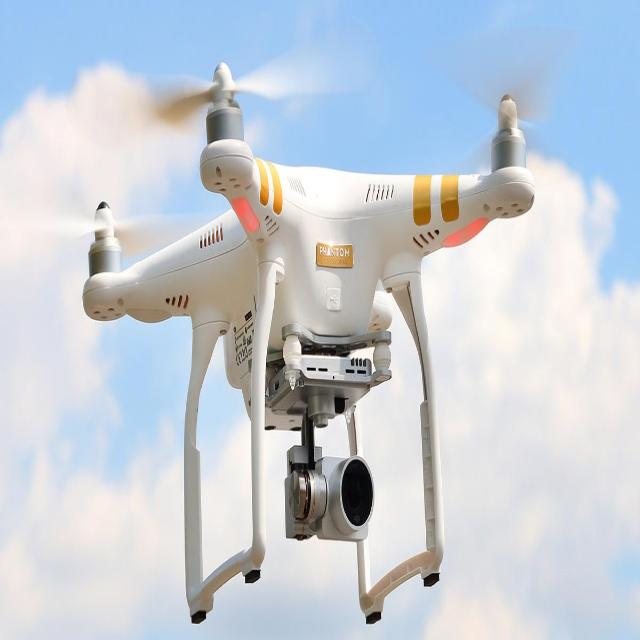drone: (61, 50, 579, 482)
